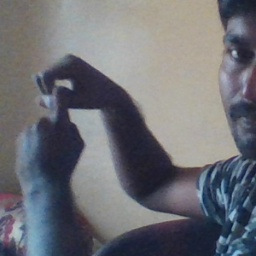Q: (14, 53, 111, 173)
